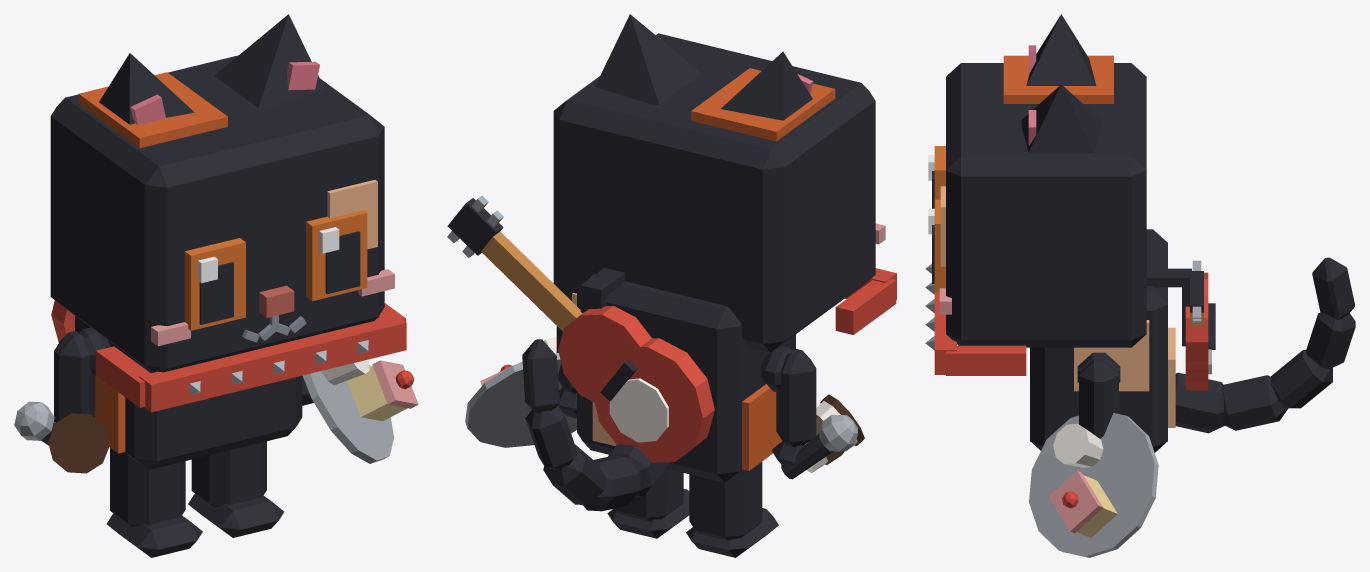
The model's file is CatCafe_Cat_Tortie_Work.glb.
3 renders of one model, left to right at view 1: azimuth 30°, elevation 25°; view 2: azimuth 150°, elevation 25°; view 3: azimuth 270°, elevation 25°, orthographic. The views are drawn at different scales.
Visible parts, largest first — view 1: CatCafe_Cat_Tortie_Work_Head, CatCafe_Cat_Tortie_Work_Body, CatCafe_Cat_Tortie_Work_Prop2, CatCafe_Cat_Tortie_Work_Held_Waiter, CatCafe_Cat_Tortie_Work_LegB2, CatCafe_Cat_Tortie_Work_LegB1, CatCafe_Cat_Tortie_Work_EarL, CatCafe_Cat_Tortie_Work_Eye2, CatCafe_Cat_Tortie_Work_Eye1, CatCafe_Cat_Tortie_Work_EarR, CatCafe_Cat_Tortie_Work_LegF2, CatCafe_Cat_Tortie_Work_Held_Barista (+2 smaller); view 2: CatCafe_Cat_Tortie_Work_Head, CatCafe_Cat_Tortie_Work_Prop, CatCafe_Cat_Tortie_Work_Body, CatCafe_Cat_Tortie_Work_Tail, CatCafe_Cat_Tortie_Work_LegB2, CatCafe_Cat_Tortie_Work_EarL, CatCafe_Cat_Tortie_Work_Held_Waiter, CatCafe_Cat_Tortie_Work_LegF2, CatCafe_Cat_Tortie_Work_EarR, CatCafe_Cat_Tortie_Work_LegB1, CatCafe_Cat_Tortie_Work_Prop2, CatCafe_Cat_Tortie_Work_Held_Entertainer (+2 smaller); view 3: CatCafe_Cat_Tortie_Work_Head, CatCafe_Cat_Tortie_Work_Held_Waiter, CatCafe_Cat_Tortie_Work_Body, CatCafe_Cat_Tortie_Work_Tail, CatCafe_Cat_Tortie_Work_Prop, CatCafe_Cat_Tortie_Work_EarL, CatCafe_Cat_Tortie_Work_Prop2, CatCafe_Cat_Tortie_Work_EarR, CatCafe_Cat_Tortie_Work_LegF1, CatCafe_Cat_Tortie_Work_Eye1, CatCafe_Cat_Tortie_Work_Eye2.
Boxes of the visible parts, bbox=[...] form: CatCafe_Cat_Tortie_Work_Head: bbox=[50, 55, 394, 372]; CatCafe_Cat_Tortie_Work_Body: bbox=[75, 316, 302, 469]; CatCafe_Cat_Tortie_Work_Prop2: bbox=[95, 303, 406, 412]; CatCafe_Cat_Tortie_Work_Held_Waiter: bbox=[303, 359, 418, 463]; CatCafe_Cat_Tortie_Work_LegB2: bbox=[107, 448, 202, 557]; CatCafe_Cat_Tortie_Work_LegB1: bbox=[188, 441, 284, 537]; CatCafe_Cat_Tortie_Work_EarL: bbox=[214, 14, 324, 108]; CatCafe_Cat_Tortie_Work_Eye2: bbox=[184, 238, 245, 330]; CatCafe_Cat_Tortie_Work_Eye1: bbox=[306, 210, 367, 301]; CatCafe_Cat_Tortie_Work_EarR: bbox=[99, 53, 194, 124]; CatCafe_Cat_Tortie_Work_LegF2: bbox=[54, 331, 95, 422]; CatCafe_Cat_Tortie_Work_Held_Barista: bbox=[48, 413, 109, 473]; CatCafe_Cat_Tortie_Work_Head: bbox=[553, 33, 885, 352]; CatCafe_Cat_Tortie_Work_Prop: bbox=[447, 195, 714, 462]; CatCafe_Cat_Tortie_Work_Body: bbox=[572, 273, 795, 482]; CatCafe_Cat_Tortie_Work_Tail: bbox=[522, 339, 669, 511]; CatCafe_Cat_Tortie_Work_LegB2: bbox=[686, 462, 778, 557]; CatCafe_Cat_Tortie_Work_EarL: bbox=[595, 14, 701, 104]; CatCafe_Cat_Tortie_Work_Held_Waiter: bbox=[465, 336, 576, 447]; CatCafe_Cat_Tortie_Work_LegF2: bbox=[772, 348, 816, 464]; CatCafe_Cat_Tortie_Work_EarR: bbox=[721, 51, 813, 120]; CatCafe_Cat_Tortie_Work_LegB1: bbox=[607, 468, 689, 538]; CatCafe_Cat_Tortie_Work_Prop2: bbox=[835, 268, 896, 334]; CatCafe_Cat_Tortie_Work_Held_Entertainer: bbox=[781, 415, 857, 479]; CatCafe_Cat_Tortie_Work_Head: bbox=[939, 55, 1146, 347]; CatCafe_Cat_Tortie_Work_Held_Waiter: bbox=[1029, 413, 1158, 557]; CatCafe_Cat_Tortie_Work_Body: bbox=[1030, 229, 1175, 452]; CatCafe_Cat_Tortie_Work_Tail: bbox=[1175, 257, 1355, 433]; CatCafe_Cat_Tortie_Work_Prop: bbox=[1146, 260, 1215, 391]; CatCafe_Cat_Tortie_Work_EarL: bbox=[1021, 84, 1101, 152]; CatCafe_Cat_Tortie_Work_Prop2: bbox=[925, 263, 1026, 375]; CatCafe_Cat_Tortie_Work_EarR: bbox=[1026, 14, 1096, 85]; CatCafe_Cat_Tortie_Work_LegF1: bbox=[1079, 359, 1118, 438]; CatCafe_Cat_Tortie_Work_Eye1: bbox=[928, 199, 945, 292]; CatCafe_Cat_Tortie_Work_Eye2: bbox=[928, 146, 945, 208].
Size of the model in its own units: 1.53 by 1.93 by 1.63.
Materials: 1 (1 with a texture image).
